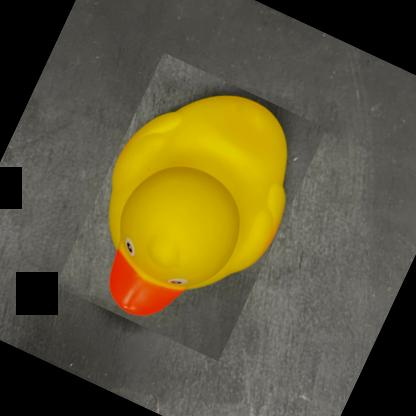duck: (55, 52, 327, 362)
